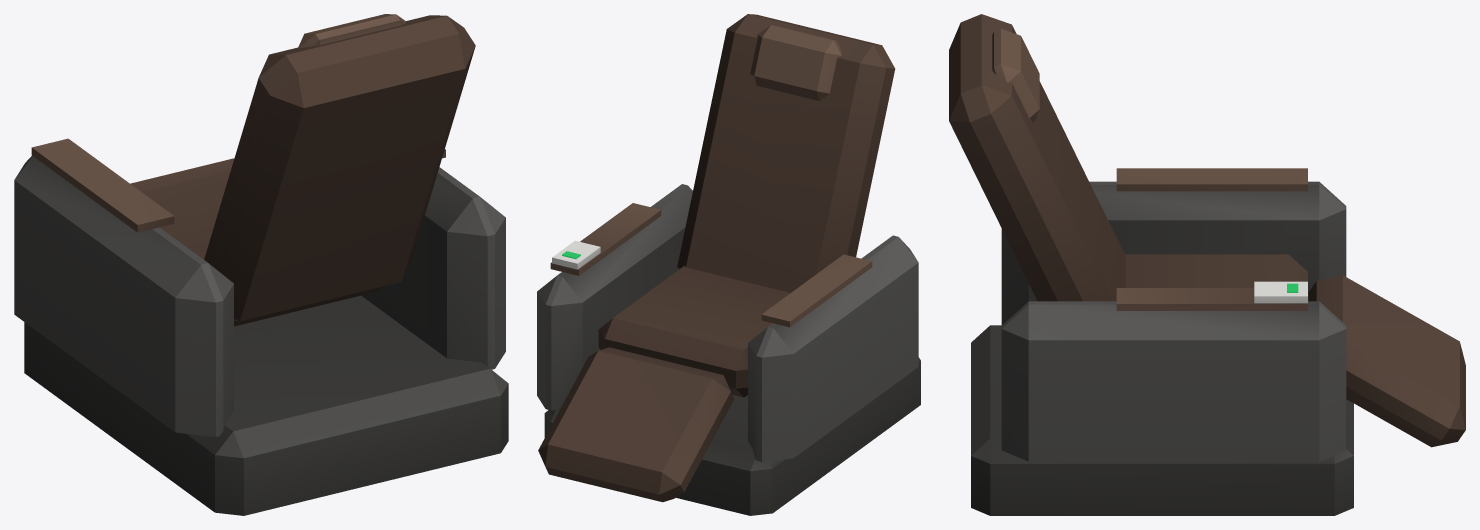
The model's file is chair_massage_01.glb.
3 renders of one model, left to right at view 1: azimuth 30°, elevation 25°; view 2: azimuth 150°, elevation 25°; view 3: azimuth 270°, elevation 25°, orthographic. The views are drawn at different scales.
Visible parts, largest first — view 1: chair_massage_01_mesh; view 2: chair_massage_01_mesh; view 3: chair_massage_01_mesh.
Part boxes in pixels (x1,y1,x2,y2): chair_massage_01_mesh: [14, 14, 508, 515]; chair_massage_01_mesh: [537, 14, 920, 515]; chair_massage_01_mesh: [949, 14, 1465, 515].
Bounding box in the file's own units: 0.9 × 1.17 × 1.35.
2 materials, 2 textured.
